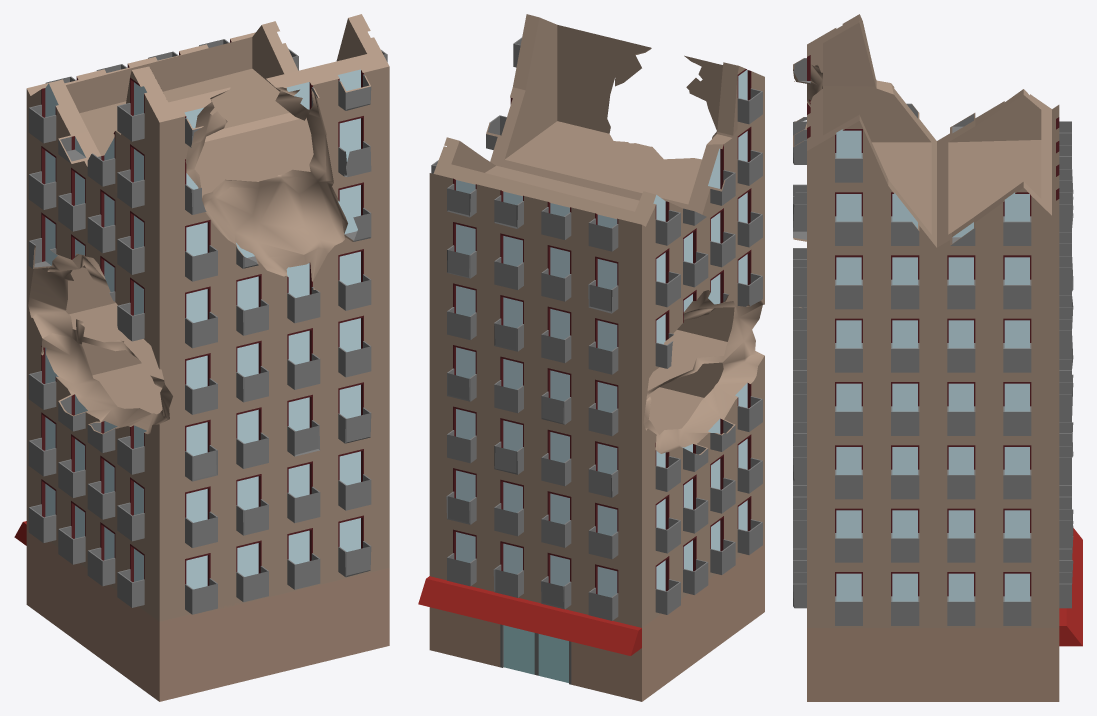
The picture shows the model from 3 angles, left to right: view 1: azimuth 30°, elevation 25°; view 2: azimuth 150°, elevation 25°; view 3: azimuth 270°, elevation 25°; orthographic projection. The views are drawn at different scales.
Visible parts, largest first — view 1: Cube.002; view 2: Cube.002; view 3: Cube.002.
Boxes of the visible parts, x1,y1,x2,y2 form: Cube.002: (14, 14, 389, 701); Cube.002: (418, 14, 764, 701); Cube.002: (793, 14, 1082, 701).
Bounding box in the file's own units: 333 × 344 × 762.
